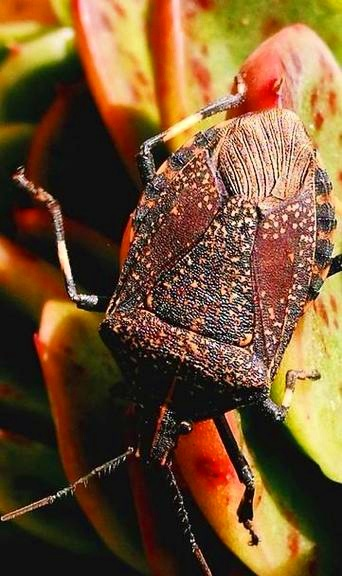Stink_Bug: (107, 85, 275, 461)
